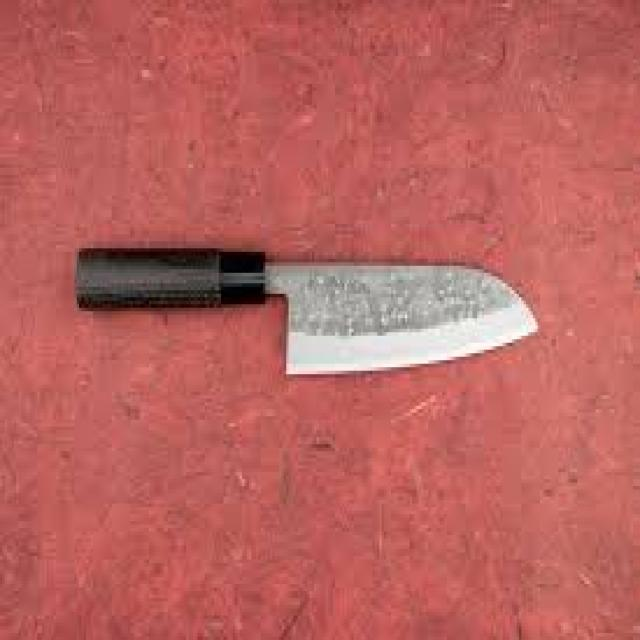Knife: (72, 242, 538, 374)
